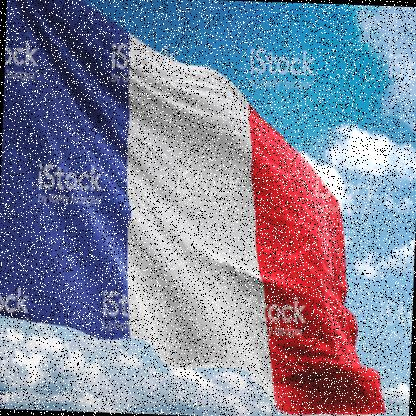fr: (1, 1, 401, 416)
